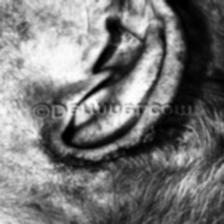Potentially Malignant Skin Tumors: (60, 122, 160, 172), (132, 127, 158, 150), (60, 155, 94, 167), (100, 148, 126, 162)
